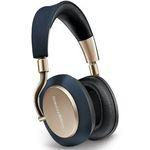headphones: (29, 0, 120, 147)
